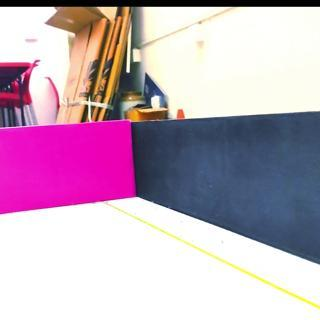xparking: (1, 129, 133, 212)
